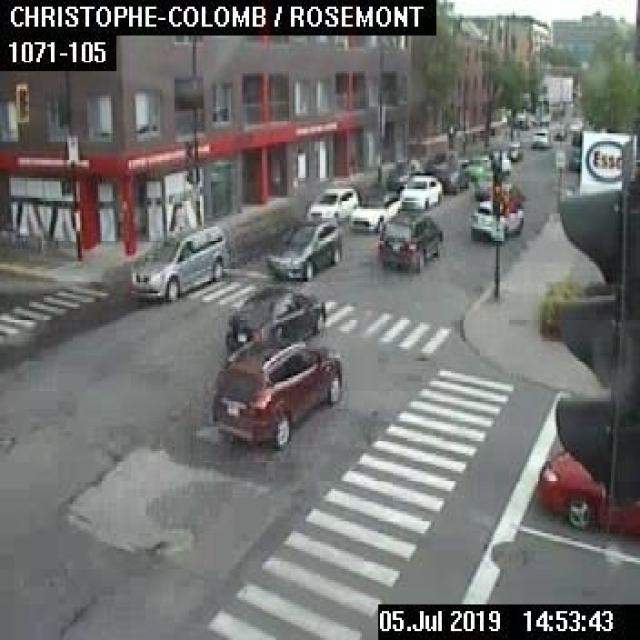vehicle: (212, 338, 341, 446), (533, 447, 638, 538), (127, 224, 225, 300), (224, 285, 324, 349), (265, 217, 342, 279), (377, 212, 442, 272), (471, 197, 522, 238), (350, 189, 400, 230), (306, 185, 357, 221), (399, 174, 441, 208), (384, 158, 423, 188), (440, 158, 468, 192), (424, 149, 456, 172), (473, 170, 498, 196), (466, 155, 489, 177), (530, 128, 550, 146), (567, 145, 579, 169), (507, 140, 521, 160), (567, 116, 582, 130), (570, 130, 580, 145), (554, 127, 565, 138)
